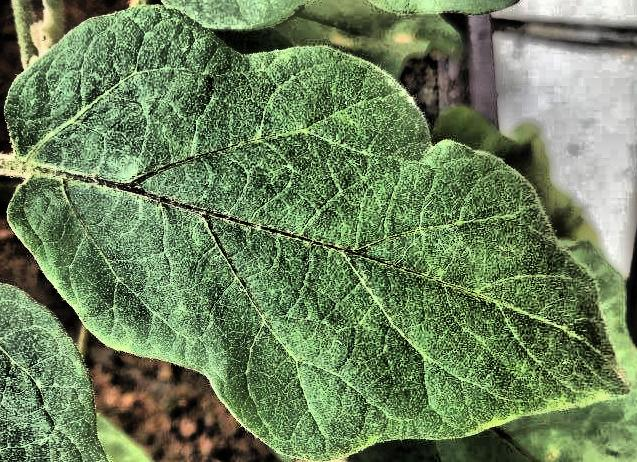HEALTHY: (0, 1, 637, 462)
